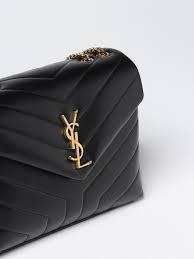YVES-SAINT-LAURENT: (60, 110, 93, 170)
